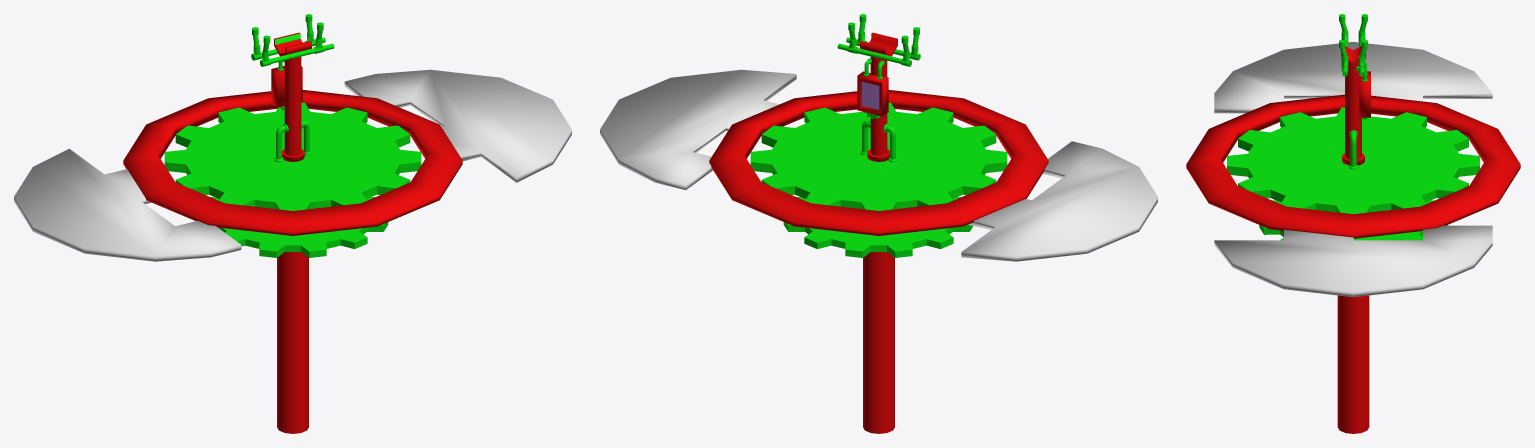
File: GeoGunPedestal.fbx
3 renders of one model, left to right at view 1: azimuth 30°, elevation 25°; view 2: azimuth 150°, elevation 25°; view 3: azimuth 270°, elevation 25°, orthographic.
Parts seen in each view (by area): view 1: Prop.GeogunPedestal; view 2: Prop.GeogunPedestal; view 3: Prop.GeogunPedestal.
Boxes of the visible parts, bbox=[...] form: Prop.GeogunPedestal: bbox=[14, 14, 571, 433]; Prop.GeogunPedestal: bbox=[600, 14, 1157, 433]; Prop.GeogunPedestal: bbox=[1186, 14, 1520, 433].
Bounding box in the file's own units: 673 × 497 × 380.
